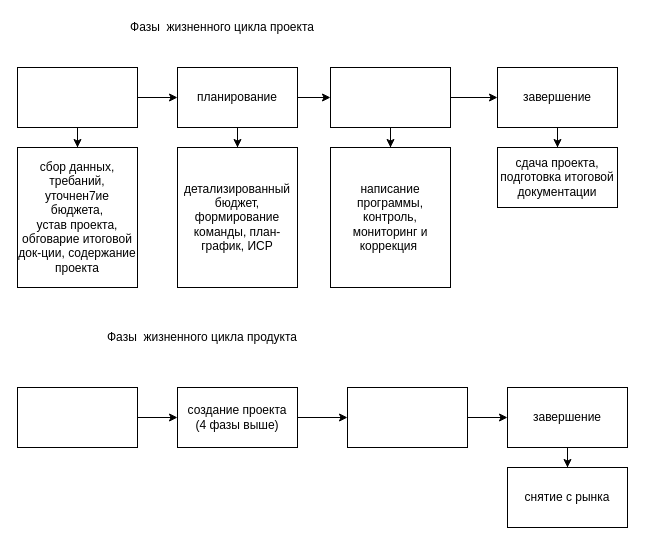
Image size: 645x545. Some labels were removed from this diagram. The shapes that lost their labels are listed below. From the top down, each one's centre as x and y in pixels, then its label:
(77,97): инициализация
(390,97): реализация
(77,417): анализ рынка, предложения создания нового проекта
(407,417): эксплуатация
